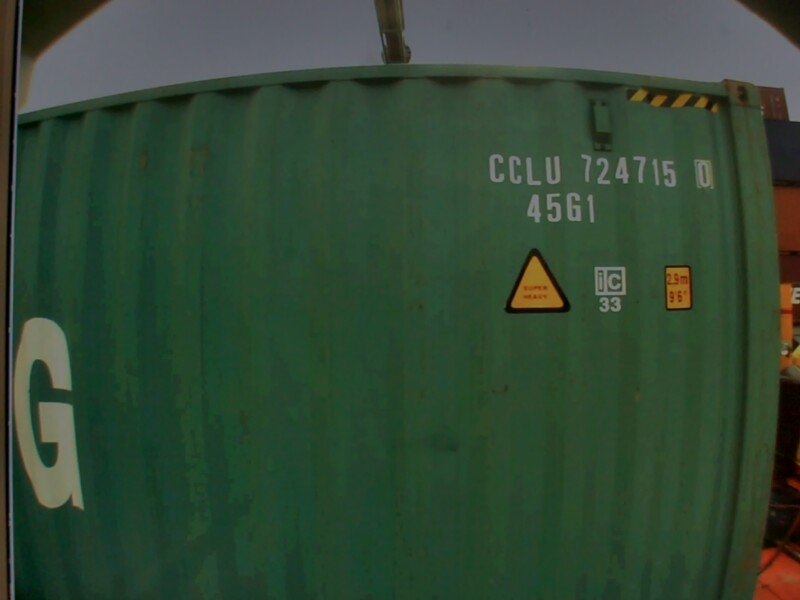container_no_door: (91, 56, 687, 569)
